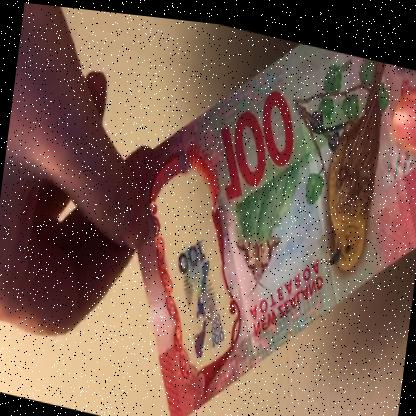100B: (166, 226, 236, 368)
